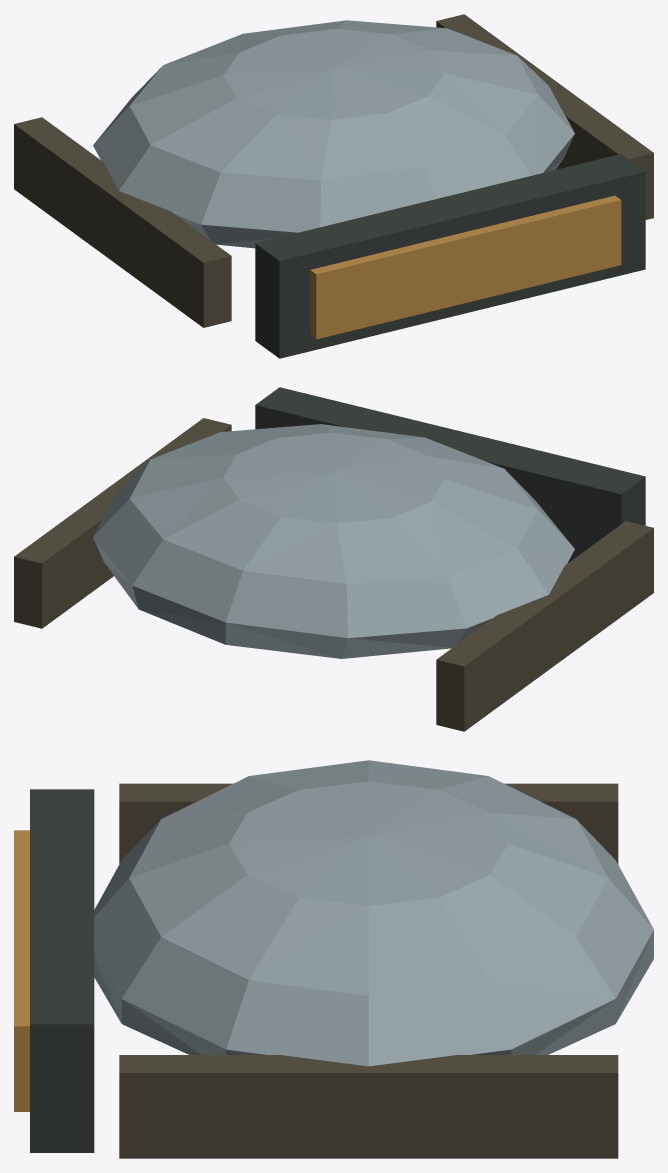
The model's file is snowgoggles.glb.
3 views of the same model, one above another, from view 1: azimuth 30°, elevation 25°; view 2: azimuth 150°, elevation 25°; view 3: azimuth 270°, elevation 25° (orthographic). The views are drawn at different scales.
Visible parts, largest first — view 1: Snowline Goggles.002; view 2: Snowline Goggles.002; view 3: Snowline Goggles.002.
Boxes of the visible parts, <box> form: Snowline Goggles.002: <box>14,14,653,358</box>; Snowline Goggles.002: <box>14,387,653,731</box>; Snowline Goggles.002: <box>14,760,653,1158</box>.
Size of the model in its own units: 0.6077 by 0.195 by 0.5681.
